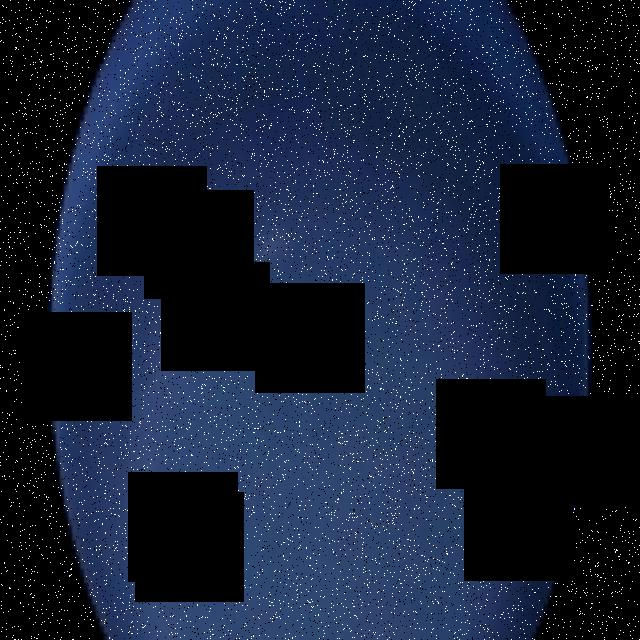Neptune: (52, 0, 592, 640)
